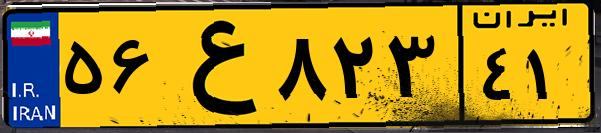1: (525, 38, 570, 115)
2: (330, 28, 385, 110)
3: (385, 28, 445, 110)
4: (475, 38, 525, 113)
5: (57, 26, 110, 100)
6: (110, 28, 158, 98)
8: (270, 28, 330, 110)
ع: (158, 12, 270, 120)
